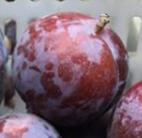plum_A: (13, 12, 129, 126)
